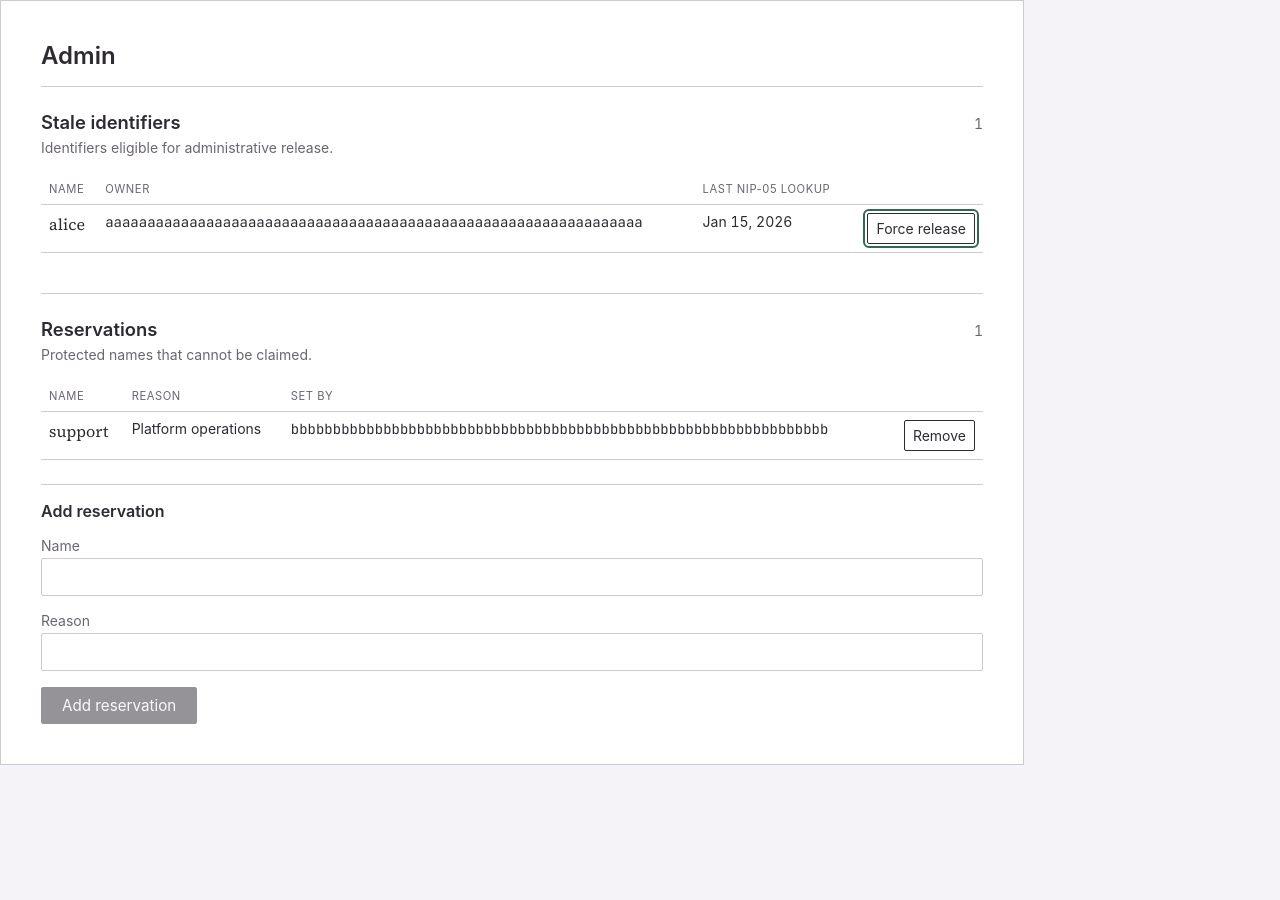
Test: force-release dialog › has a visible accessible name and consequence description and focuses Cancel safely
This screenshot has width=1280, height=900.
Click the button "Force release" at x=921, y=228, box [868,213,975,244]
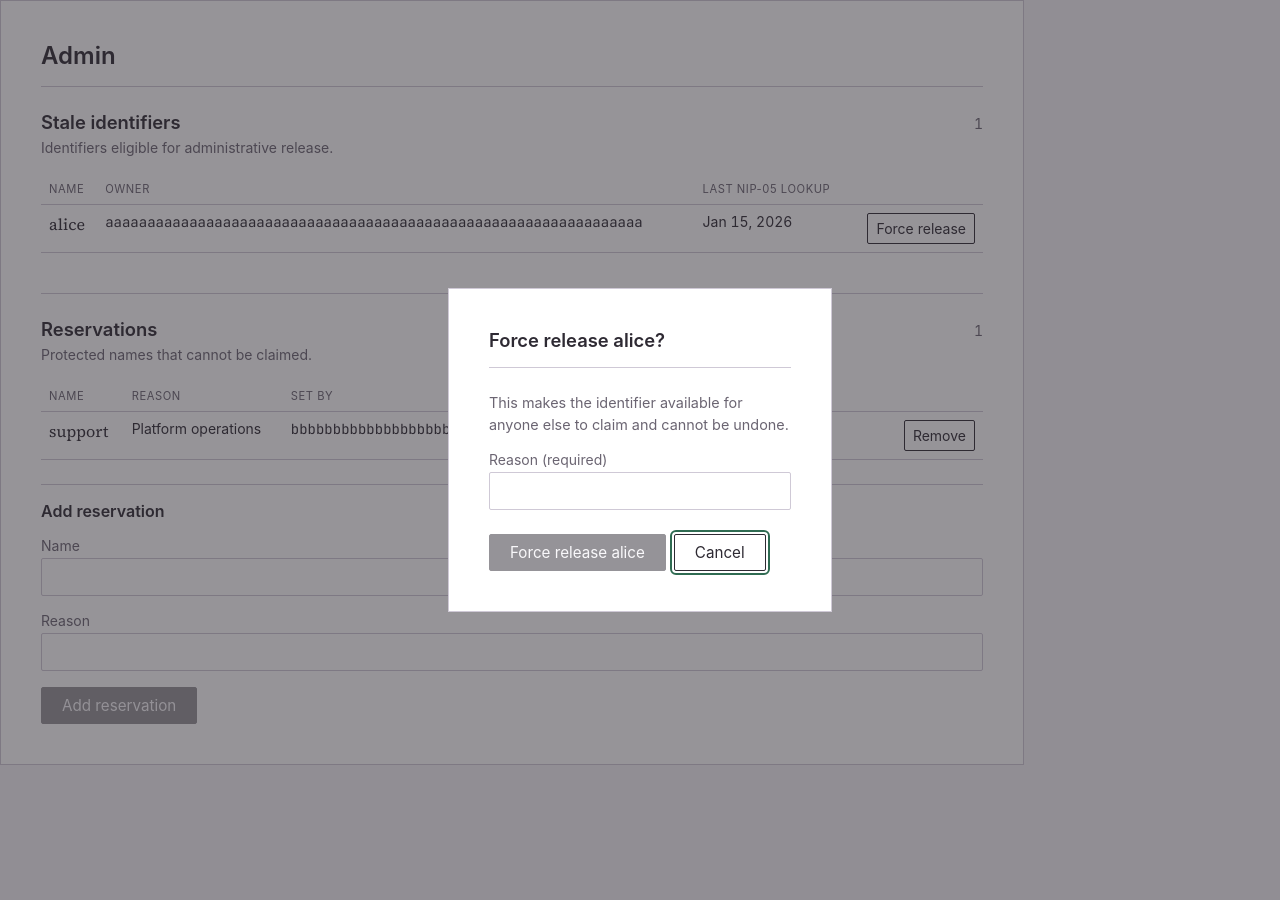
Result: the heading with id "force-release-title" reads "Force release alice?" at [489,329,665,351]
Result: the text with id "force-release-description" shows "available for anyone else to claim" at [489,394,789,432]
